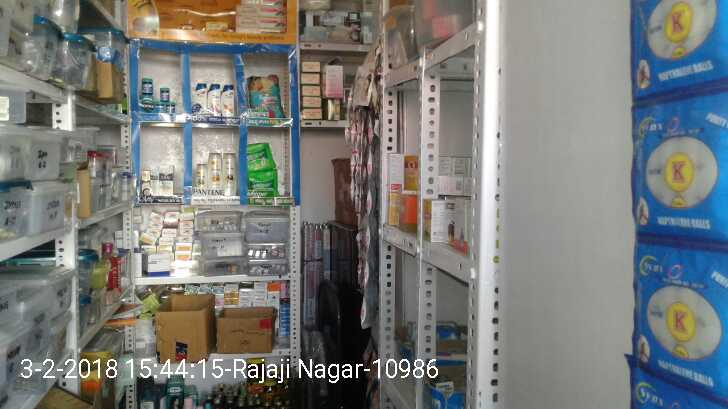beauty: (221, 153, 237, 198), (207, 150, 221, 196), (158, 163, 175, 199)
pharmacy: (248, 74, 285, 122), (244, 137, 280, 170), (245, 167, 279, 196), (158, 82, 171, 102), (138, 76, 151, 95)
